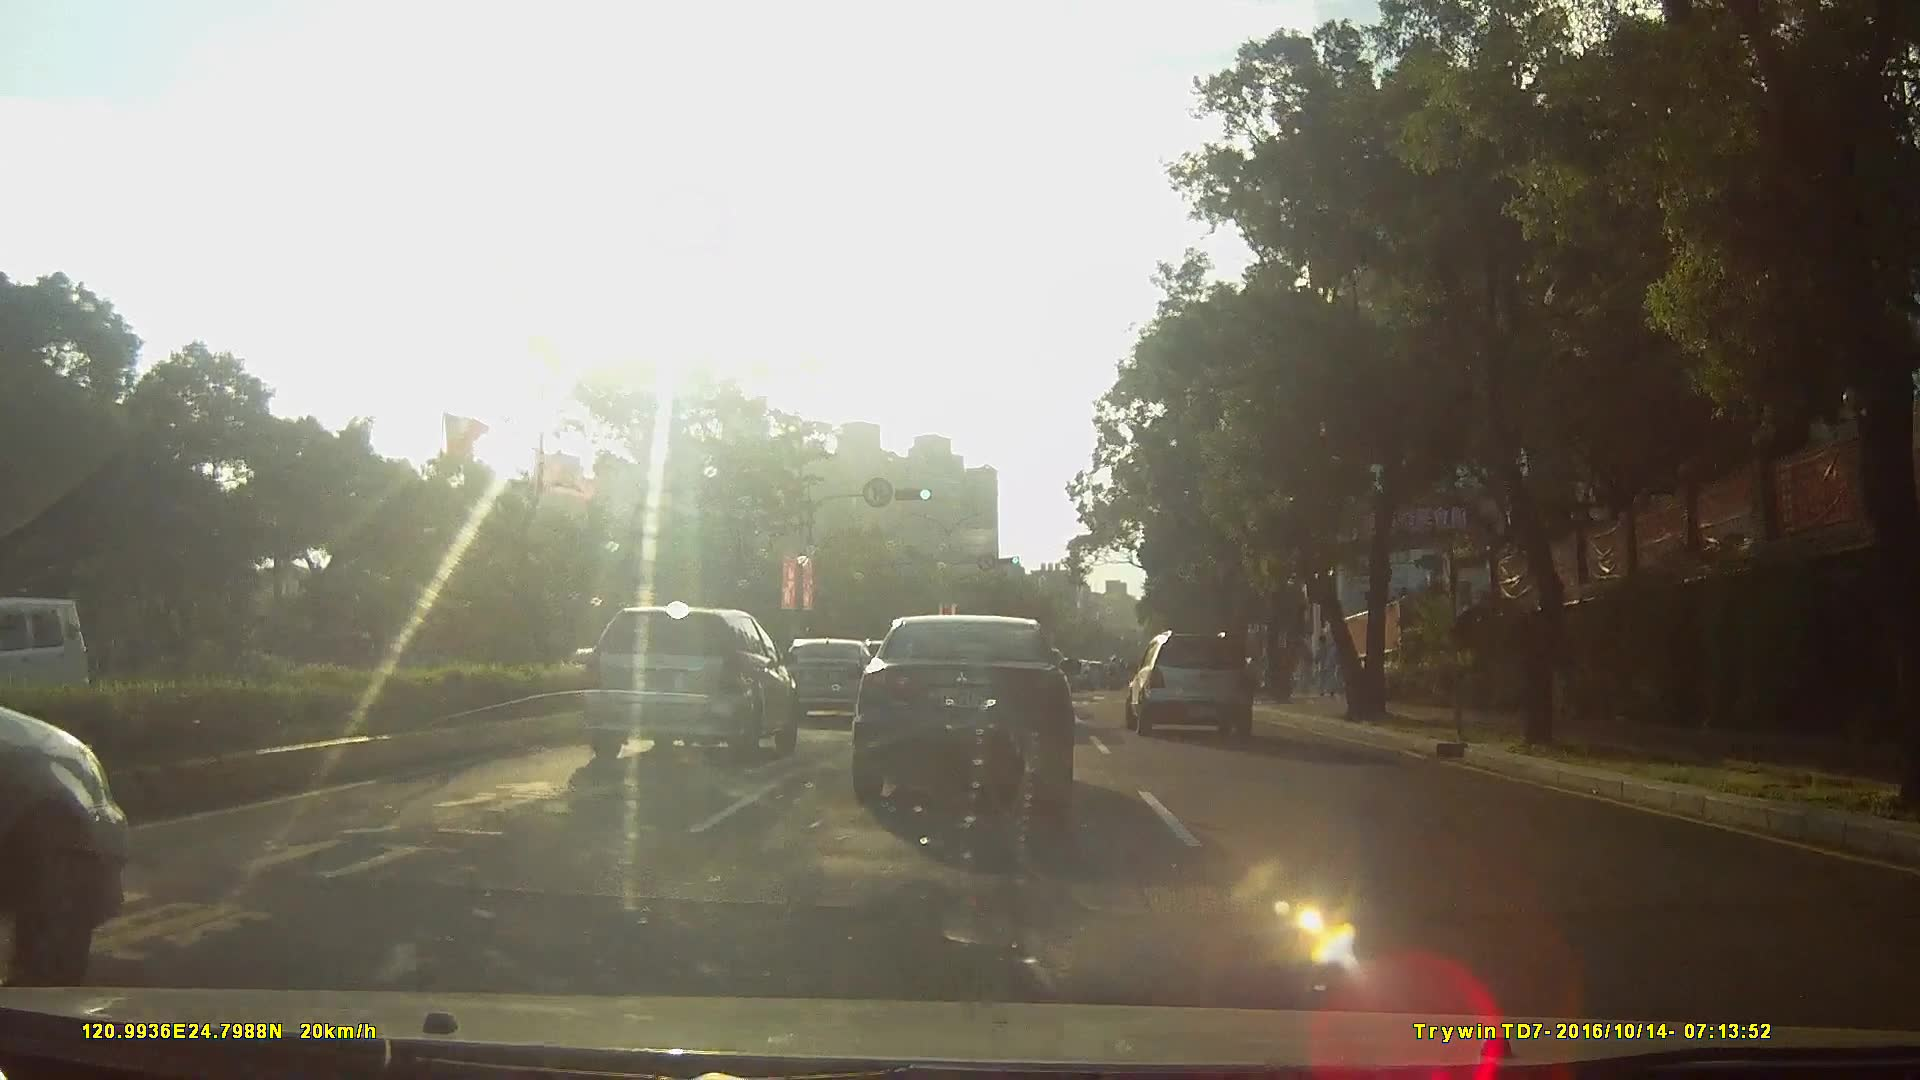vehicle: (851, 611, 1079, 815), (1, 673, 146, 993), (575, 605, 796, 765), (1125, 633, 1269, 741), (1, 599, 102, 713), (773, 641, 887, 725)
